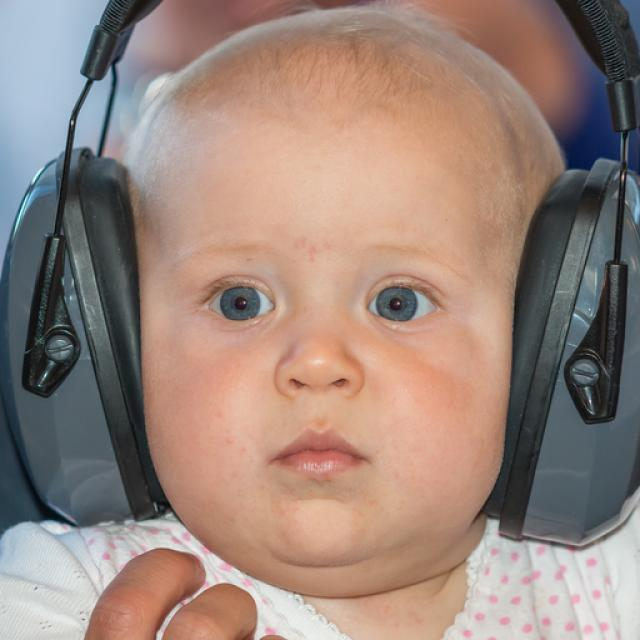0_rostro_limpio: (144, 10, 516, 565)
